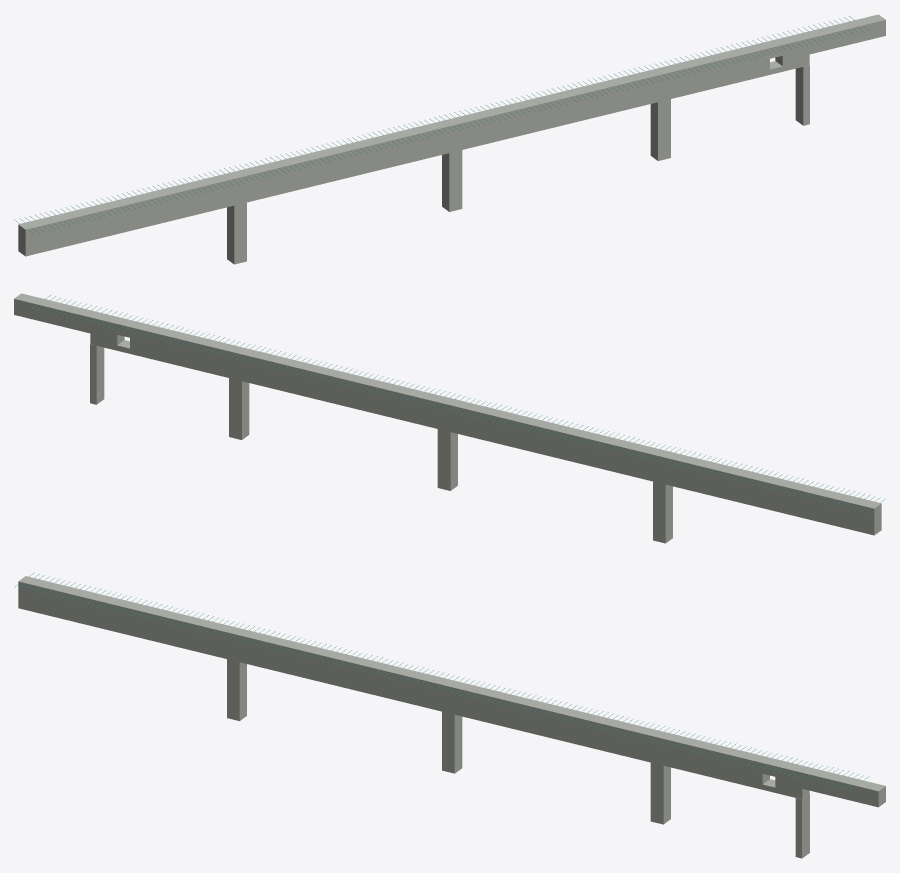
File: unterzug-441-m10.glb
3 views of the same model, one above another, from view 1: azimuth 30°, elevation 25°; view 2: azimuth 150°, elevation 25°; view 3: azimuth 330°, elevation 25° (orthographic).
Visible parts, largest first — view 1: Beton; view 2: Beton; view 3: Beton.
Boxes of the visible parts, <box> form: Beton: <box>18,14,885,264</box>; Beton: <box>14,293,881,543</box>; Beton: <box>18,576,885,858</box>.
Bounding box in the file's own units: 3.36 × 0.32 × 0.14.
